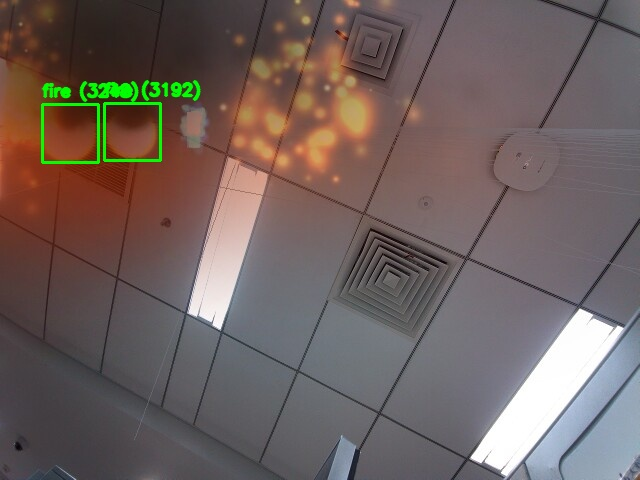fire: (42, 104, 98, 162), (104, 103, 160, 160)
